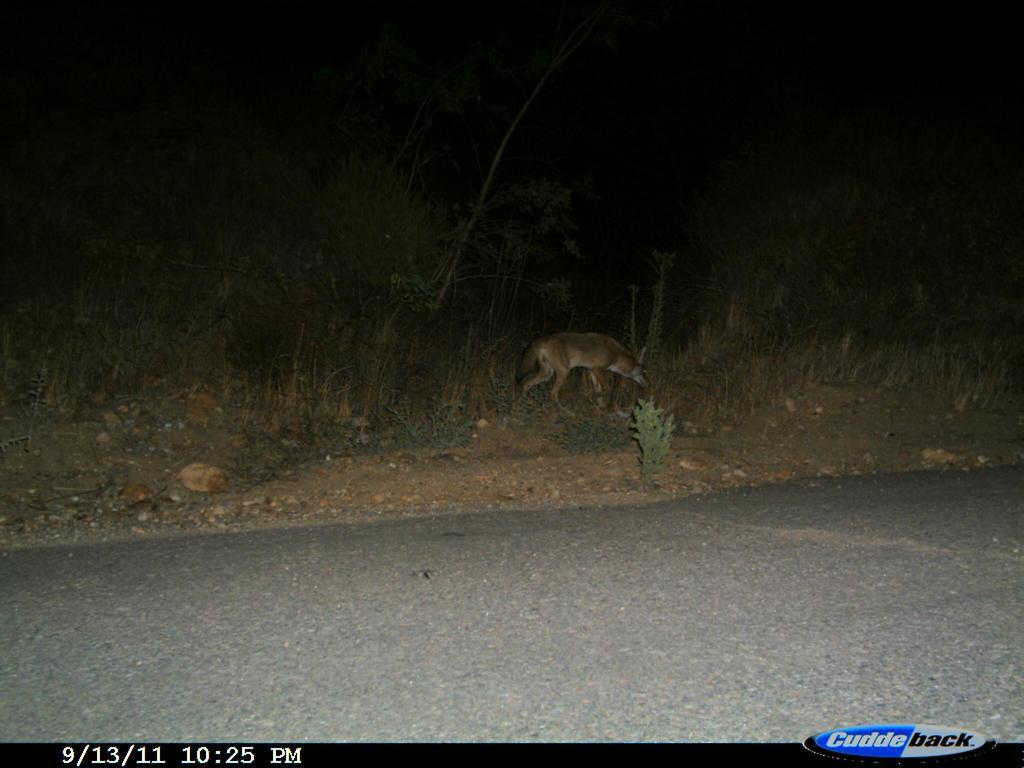coyote: (509, 327, 661, 428)
